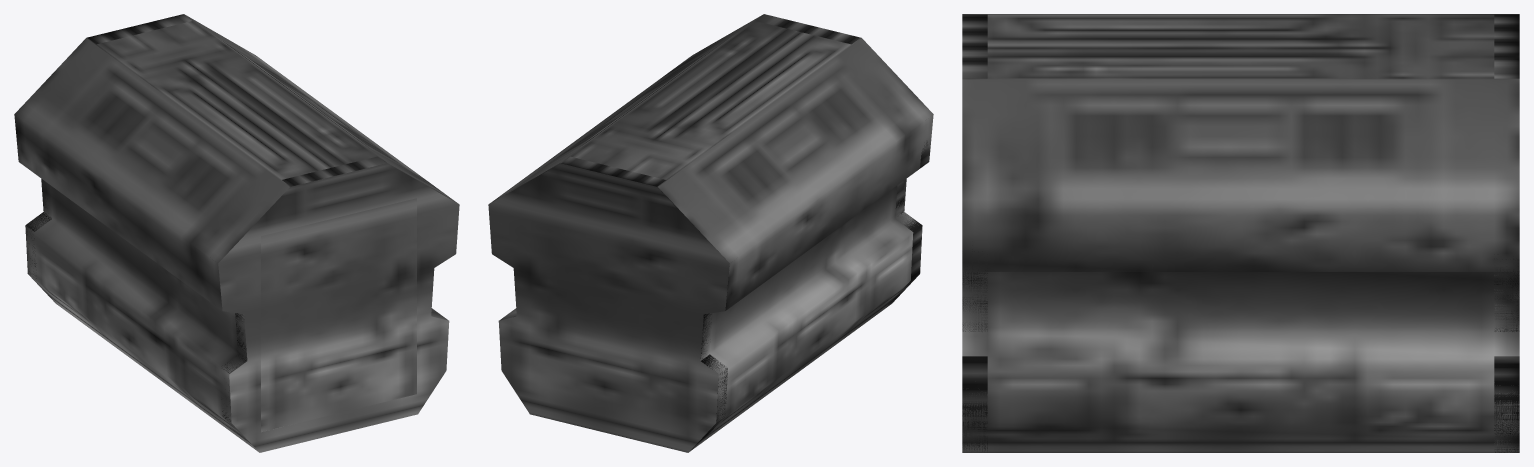
The model's file is utl15b1.obj.
3 views of the same model, side by side, from view 1: azimuth 30°, elevation 25°; view 2: azimuth 150°, elevation 25°; view 3: azimuth 270°, elevation 25° (orthographic). The views are drawn at different scales.
Visible parts, largest first — view 1: frm-utl15b, frm-back_door, frm-front_door; view 2: frm-utl15b, frm-front_door, frm-back_door; view 3: frm-utl15b, frm-back_door, frm-front_door.
Boxes of the visible parts, bbox=[...] form: frm-utl15b: bbox=[14, 14, 459, 452]; frm-back_door: bbox=[221, 156, 416, 445]; frm-front_door: bbox=[14, 14, 191, 278]; frm-utl15b: bbox=[490, 14, 933, 450]; frm-front_door: bbox=[488, 156, 729, 452]; frm-back_door: bbox=[756, 14, 930, 309]; frm-utl15b: bbox=[962, 14, 1519, 452]; frm-back_door: bbox=[962, 14, 987, 452]; frm-front_door: bbox=[1494, 14, 1519, 452].
Size of the model in its own units: 7.05 by 7.22 by 10.31.
1 material, 1 textured.
